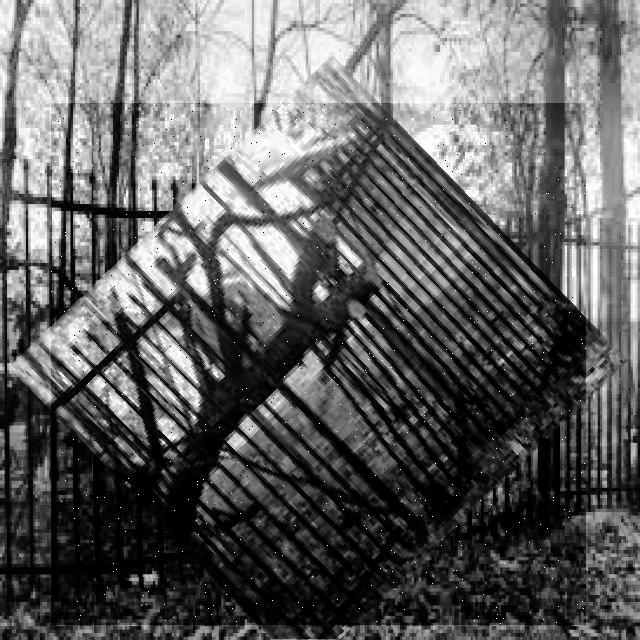anomaly-fence: (51, 103, 586, 625)
